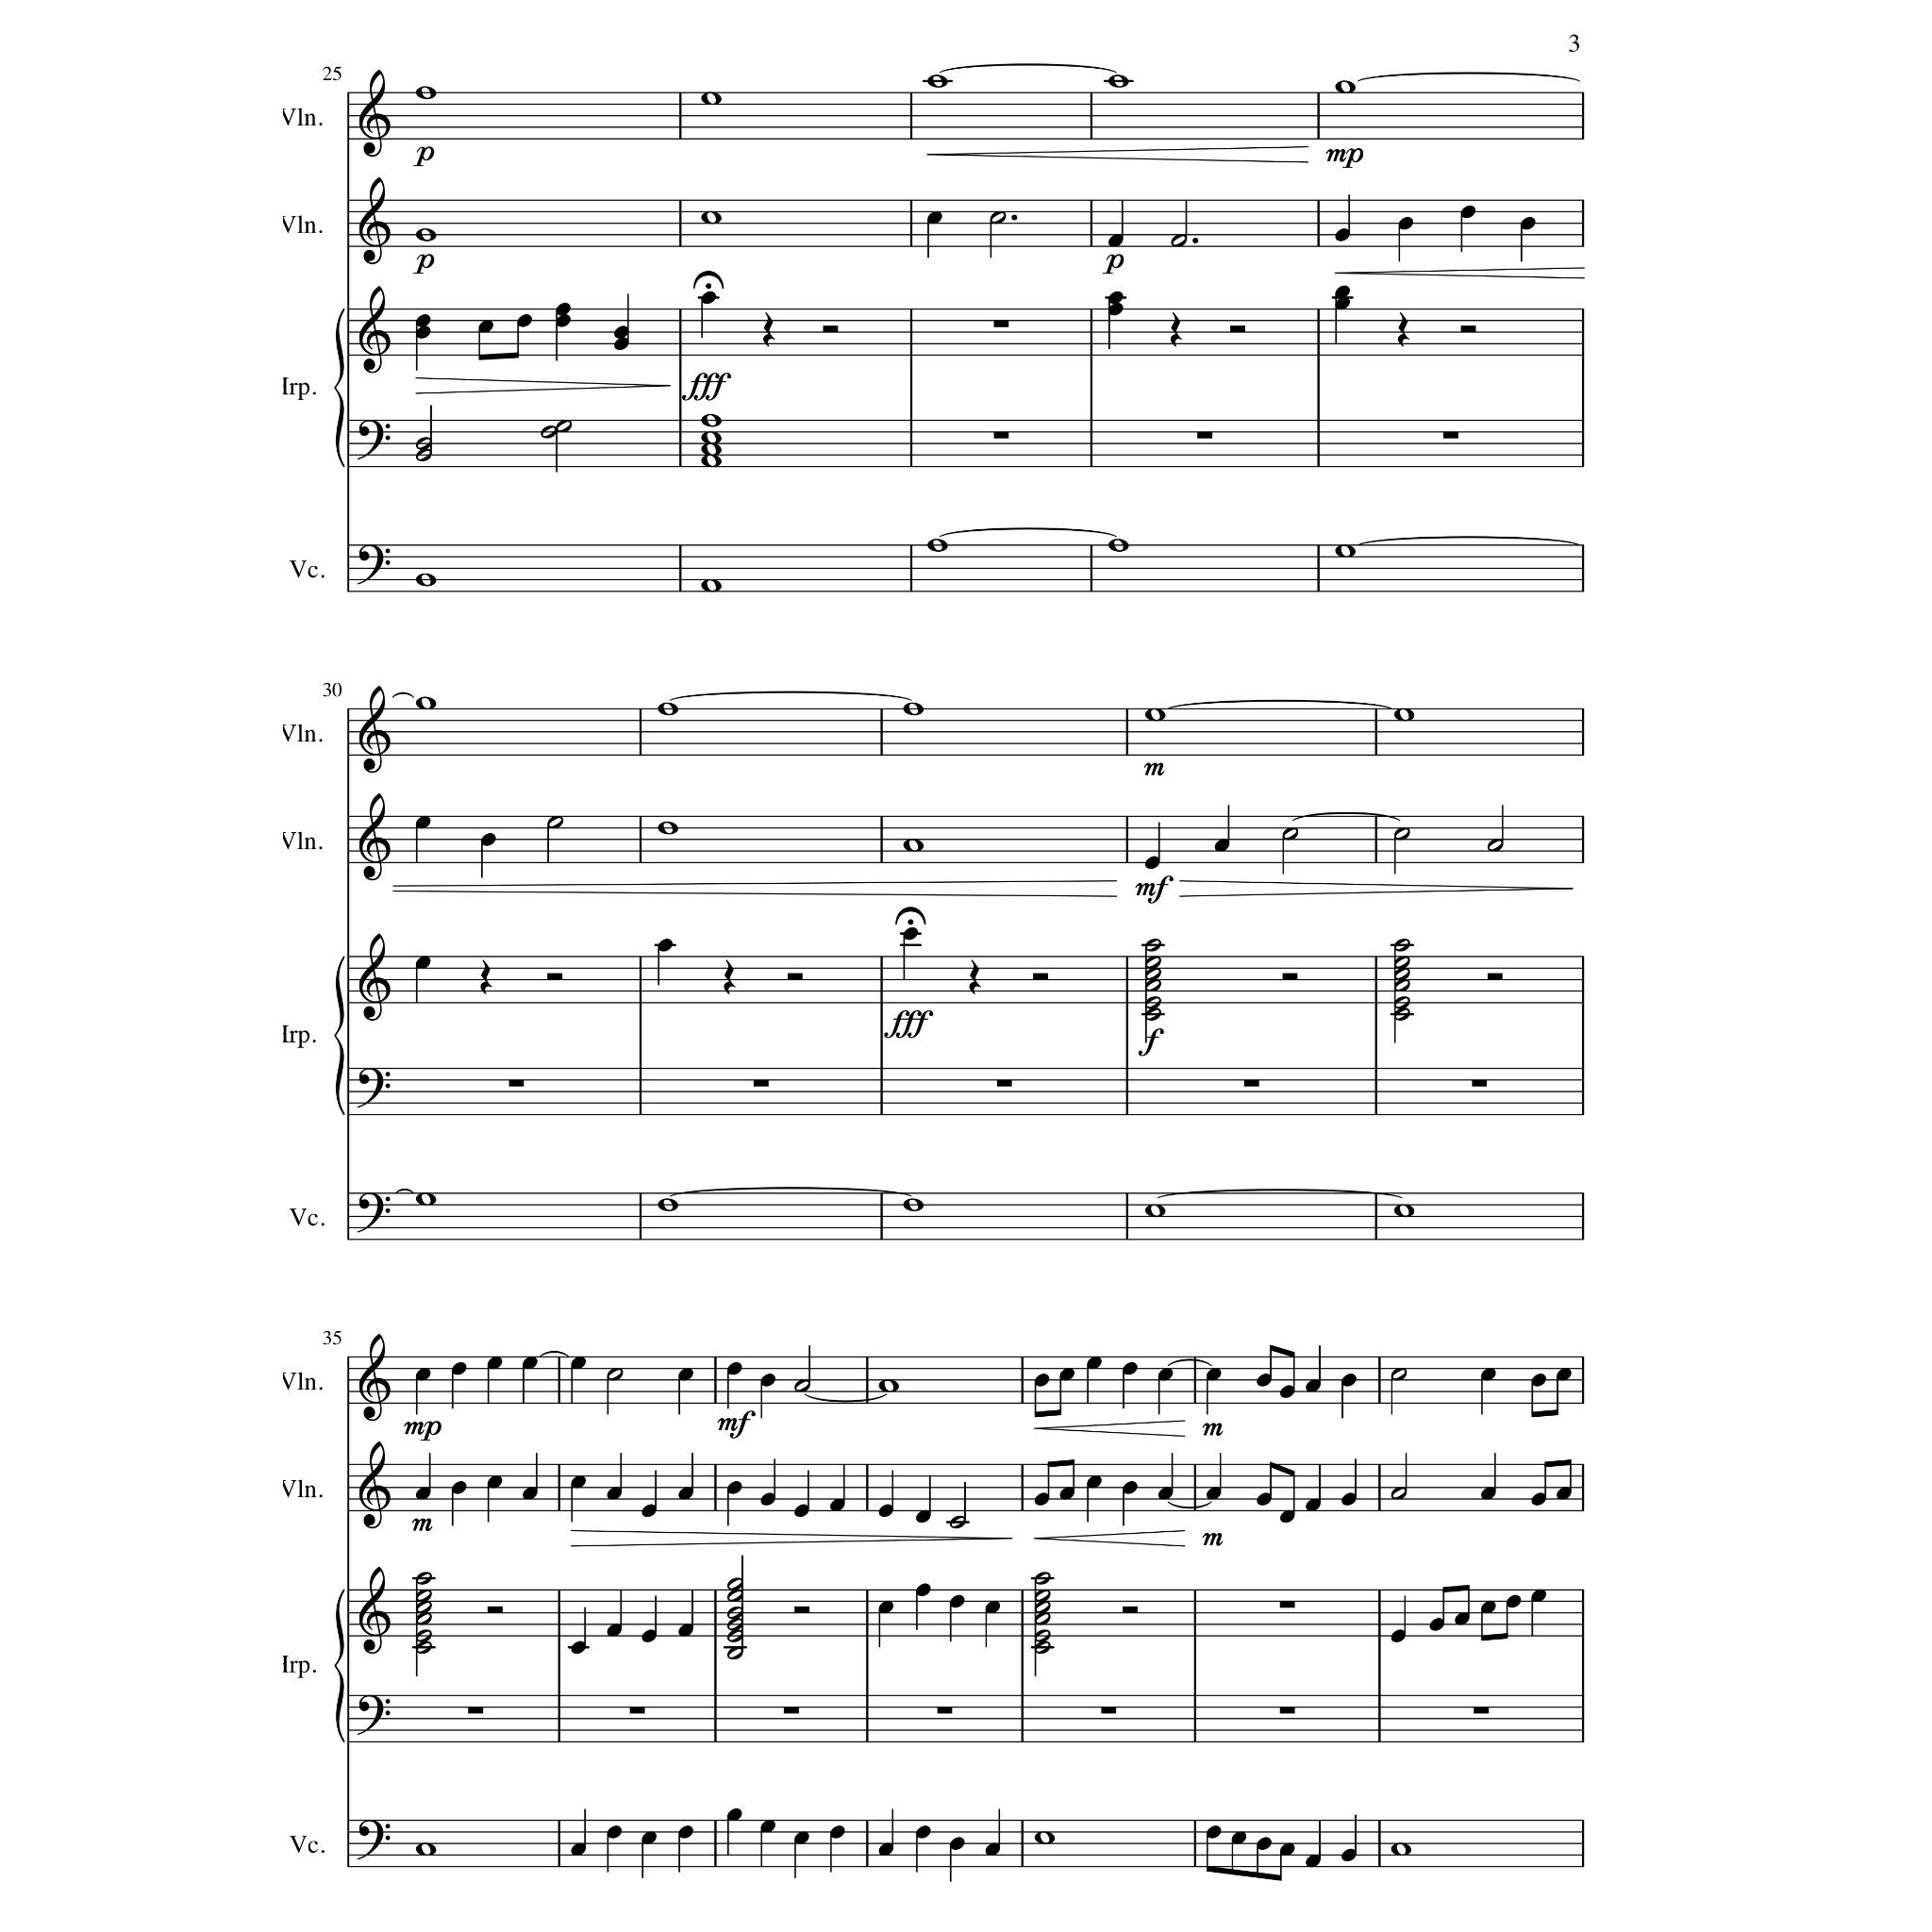brace: (333, 308, 344, 468), (333, 956, 344, 1116), (333, 1589, 344, 1743)
fClef: (357, 1192, 391, 1234), (357, 1068, 391, 1109), (357, 1694, 391, 1736), (357, 1819, 391, 1860), (357, 545, 391, 585), (357, 421, 391, 460)
gClef: (358, 69, 391, 158), (358, 176, 391, 265), (358, 933, 391, 1022), (358, 792, 391, 881), (358, 685, 391, 774), (358, 1441, 391, 1529), (358, 1566, 391, 1655), (358, 1333, 391, 1422), (358, 287, 391, 374)
noteheadBlack: (477, 319, 494, 334), (877, 1600, 894, 1615), (1108, 234, 1123, 249), (1391, 1628, 1406, 1643), (1341, 1847, 1357, 1862), (1481, 1600, 1496, 1615), (641, 1628, 657, 1643), (985, 1600, 1000, 1615), (760, 1819, 775, 1834), (1334, 228, 1351, 241), (1334, 297, 1351, 310), (1334, 286, 1351, 299), (1519, 217, 1536, 230), (613, 338, 630, 351), (613, 326, 630, 340), (700, 291, 717, 305), (1213, 839, 1230, 852), (1143, 857, 1160, 870), (479, 833, 496, 846), (657, 939, 674, 952), (902, 927, 919, 941), (1230, 1831, 1247, 1844), (1121, 1481, 1138, 1494), (1121, 1362, 1138, 1375), (1157, 1368, 1174, 1381), (1157, 1487, 1174, 1500), (1058, 1368, 1075, 1381), (1058, 1487, 1075, 1500), (1555, 1368, 1572, 1381), (1555, 1487, 1572, 1500), (1428, 1618, 1445, 1631), (570, 1357, 587, 1370), (570, 1475, 587, 1489), (570, 1641, 587, 1654), (570, 1842, 587, 1856), (677, 1624, 694, 1637), (677, 1368, 694, 1381), (677, 1487, 694, 1500), (677, 1825, 694, 1839), (606, 1487, 623, 1500), (606, 1624, 623, 1637), (606, 1825, 623, 1839), (877, 1504, 894, 1517), (877, 1842, 894, 1856), (1108, 291, 1123, 305), (1108, 303, 1123, 316), (1460, 206, 1475, 219), (1398, 217, 1413, 230), (415, 314, 430, 327), (415, 326, 430, 340), (555, 314, 570, 327), (555, 303, 570, 316), (517, 314, 532, 327), (927, 211, 942, 225), (415, 956, 430, 969), (415, 816, 430, 829), (1206, 1487, 1221, 1500), (1206, 1825, 1221, 1839), (1257, 1374, 1272, 1387), (1257, 1492, 1272, 1506), (1257, 1837, 1272, 1850), (1279, 1842, 1294, 1856), (1279, 1510, 1294, 1524), (1279, 1385, 1294, 1398), (1034, 1374, 1049, 1387), (1034, 1492, 1049, 1506), (1206, 1368, 1221, 1381), (1087, 1357, 1102, 1370), (1087, 1475, 1102, 1489), (1531, 1374, 1546, 1387), (1506, 1595, 1521, 1608), (1531, 1492, 1546, 1506), (1531, 1589, 1546, 1602), (1306, 1379, 1321, 1392), (1306, 1498, 1321, 1511), (1306, 1855, 1321, 1868), (1341, 1374, 1357, 1387), (1341, 1492, 1357, 1506), (1455, 1612, 1470, 1625), (1481, 1368, 1496, 1381), (1481, 1487, 1496, 1500), (523, 1487, 538, 1500), (641, 1504, 657, 1517), (641, 1831, 657, 1844), (415, 1368, 430, 1381), (415, 1487, 430, 1500), (487, 1357, 502, 1370), (487, 1475, 502, 1489), (451, 1481, 466, 1494), (523, 1357, 538, 1370), (451, 1362, 466, 1375), (830, 1498, 845, 1511), (830, 1825, 845, 1839), (949, 1595, 964, 1608), (949, 1837, 964, 1850), (985, 1842, 1000, 1856), (915, 1510, 930, 1524), (915, 1583, 930, 1596), (915, 1825, 930, 1839), (726, 1362, 741, 1375), (726, 1481, 741, 1494), (726, 1808, 741, 1822), (794, 1504, 809, 1517), (794, 1831, 809, 1844), (760, 1492, 775, 1506), (760, 1374, 775, 1387)
noteheadHalf: (1170, 234, 1187, 249), (1393, 826, 1410, 841), (1281, 826, 1298, 841), (1034, 1628, 1051, 1643), (1034, 1600, 1051, 1615), (415, 1628, 432, 1643), (415, 1600, 432, 1615), (726, 1628, 743, 1643), (990, 211, 1007, 225), (415, 438, 432, 451), (415, 449, 432, 462), (555, 420, 572, 433), (541, 426, 558, 440), (1393, 939, 1410, 952), (1393, 956, 1410, 969), (1393, 968, 1410, 981), (1393, 979, 1410, 992), (1393, 996, 1410, 1009), (1393, 1008, 1410, 1021), (1144, 939, 1161, 952), (1144, 956, 1161, 969), (1144, 968, 1161, 981), (1144, 979, 1161, 992), (1144, 996, 1161, 1009), (1144, 1008, 1161, 1021), (1487, 839, 1504, 852), (546, 816, 563, 829), (1034, 1641, 1051, 1654), (1034, 1612, 1051, 1625), (1034, 1590, 1051, 1603), (1034, 1572, 1051, 1585), (1391, 1368, 1407, 1381), (1391, 1487, 1407, 1500), (607, 1368, 624, 1381), (415, 1641, 432, 1654), (415, 1612, 432, 1625), (415, 1590, 432, 1603), (415, 1572, 432, 1585), (949, 1516, 966, 1529), (726, 1590, 743, 1603), (726, 1647, 743, 1660), (726, 1618, 743, 1631), (726, 1607, 743, 1620), (726, 1577, 743, 1591), (793, 1379, 810, 1392)
noteheadWhole: (926, 74, 949, 89), (700, 413, 723, 428), (1392, 708, 1415, 723), (1143, 708, 1166, 723), (657, 702, 679, 717), (902, 702, 924, 717), (902, 838, 924, 853), (1108, 74, 1128, 89), (1034, 1830, 1055, 1845), (1334, 81, 1357, 94), (1334, 545, 1357, 558), (926, 539, 949, 552), (700, 92, 723, 106), (700, 211, 723, 225), (700, 579, 723, 592), (700, 431, 723, 444), (700, 443, 723, 457), (700, 455, 723, 468), (1392, 1205, 1415, 1218), (1143, 1205, 1166, 1218), (657, 822, 679, 835), (657, 1198, 679, 1211), (902, 1198, 924, 1211), (877, 1379, 900, 1392), (1108, 539, 1128, 552), (415, 574, 436, 587), (415, 228, 436, 241), (415, 87, 436, 100), (415, 1192, 436, 1206), (415, 697, 436, 710), (1391, 1842, 1411, 1856), (415, 1842, 436, 1856)
restHalf: (1281, 973, 1298, 980), (1032, 973, 1049, 980), (487, 1606, 504, 1613), (1230, 325, 1245, 333), (1460, 325, 1475, 333), (823, 325, 838, 333), (1487, 973, 1502, 980), (547, 973, 562, 980), (787, 973, 802, 980), (1123, 1606, 1138, 1613), (794, 1606, 809, 1613)
restQuarter: (479, 959, 492, 995), (723, 959, 736, 995), (1170, 313, 1183, 347), (762, 313, 775, 347), (970, 959, 981, 995), (1398, 313, 1409, 347)
restWhole: (1196, 432, 1213, 440), (992, 321, 1009, 328), (992, 432, 1009, 440), (1243, 1080, 1260, 1088), (508, 1080, 525, 1088), (1100, 1707, 1117, 1714), (936, 1707, 953, 1714), (783, 1707, 800, 1714), (628, 1707, 645, 1714), (1443, 432, 1458, 440), (753, 1080, 768, 1088), (996, 1080, 1011, 1088), (1472, 1080, 1487, 1088), (1279, 1601, 1294, 1608), (1279, 1707, 1294, 1714), (468, 1707, 483, 1714), (1474, 1707, 1489, 1714)
